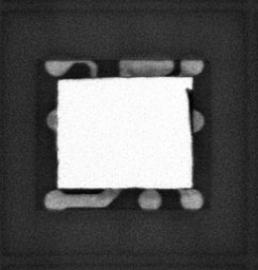DIE_BROKEN: (184, 85, 194, 135)
